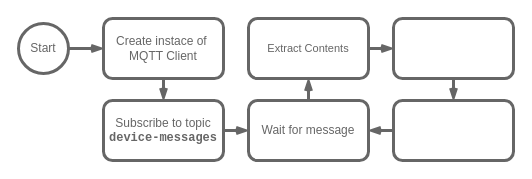
Image size: 532x179. Some labels were removed from this diagram. The centre of each missing label's shape, as x and y in pixels:
"Make the updated status available to the other services" goes at pixel 453 130.
"Update observed system status" goes at pixel 453 48.
